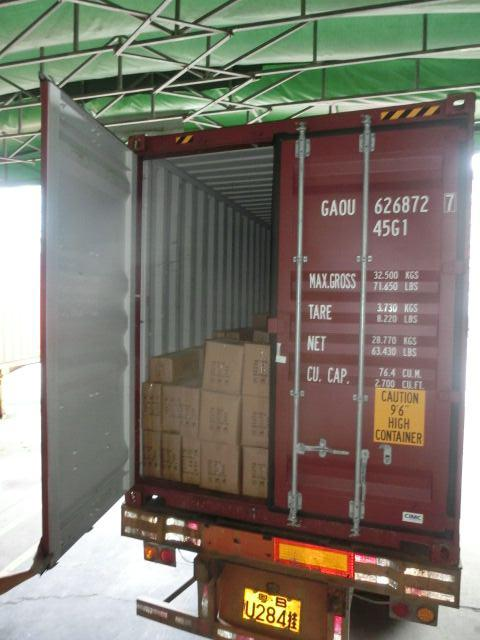ContainerNum: (319, 190, 458, 238)
